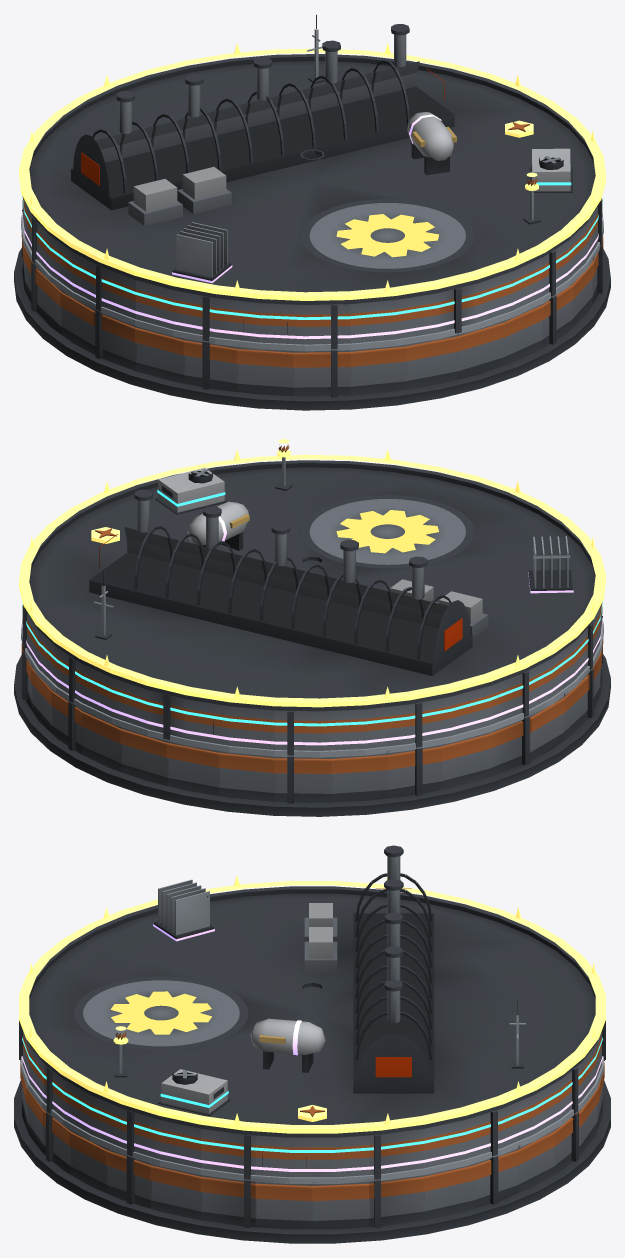
File: ceramics_kiln_m_far.glb
The picture shows the model from 3 angles, top to bottom: view 1: azimuth 30°, elevation 25°; view 2: azimuth 150°, elevation 25°; view 3: azimuth 270°, elevation 25°; orthographic projection.
Parts seen in each view (by area): view 1: Roof, Base, L5, L4, L2, L3; view 2: Roof, Base, L5, L4, L2, L3; view 3: Roof, Base, L5, L4, L2, L3.
Part boxes in pixels (x1,y1,x2,y2): Roof: (22,24,602,349); Base: (14,209,610,410); L5: (19,43,605,300); L4: (22,112,602,339); L2: (21,14,603,351); L3: (22,148,602,319); Roof: (22,460,602,755); Base: (14,616,610,816); L5: (19,439,605,707); L4: (22,501,602,745); L2: (21,571,603,757); L3: (22,468,602,726); Roof: (19,845,605,1179); Base: (14,1060,610,1243); L5: (19,875,605,1133); L4: (22,879,602,1171); L2: (21,1000,603,1183); L3: (22,982,602,1152).
Bounding box in the file's own units: 14.75 × 5.35 × 14.75.
